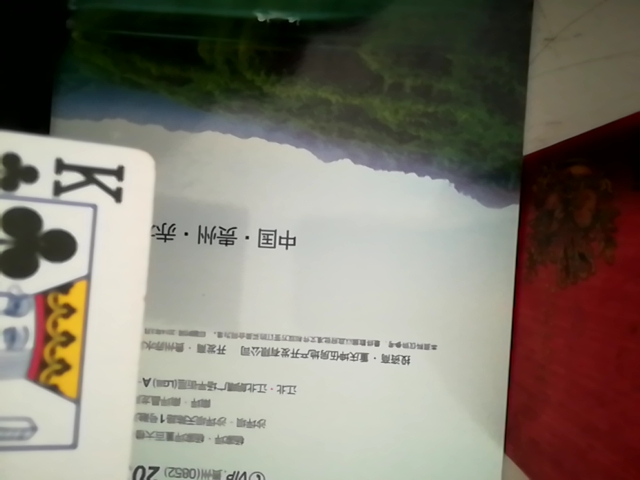mh k: (0, 90, 162, 474)
